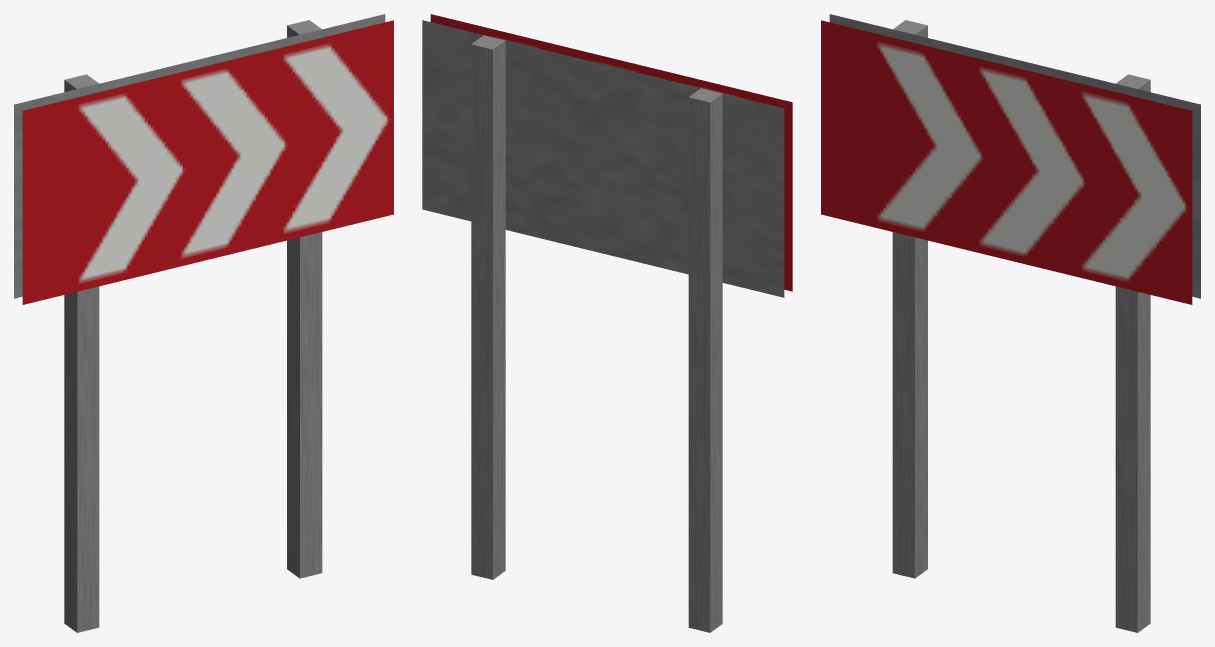
The model's file is SM_sign_chevron_r.fbx.
3 views of the same model, side by side, from view 1: azimuth 30°, elevation 25°; view 2: azimuth 150°, elevation 25°; view 3: azimuth 330°, elevation 25° (orthographic). The views are drawn at different scales.
Parts seen in each view (by area): view 1: SM_sign_chevron_r; view 2: SM_sign_chevron_r; view 3: SM_sign_chevron_r.
Boxes of the visible parts, x1,y1,x2,y2 form: SM_sign_chevron_r: (14,14,393,632); SM_sign_chevron_r: (422,14,792,632); SM_sign_chevron_r: (821,14,1200,632).
Bounding box in the file's own units: 1 × 1.4 × 0.1.
